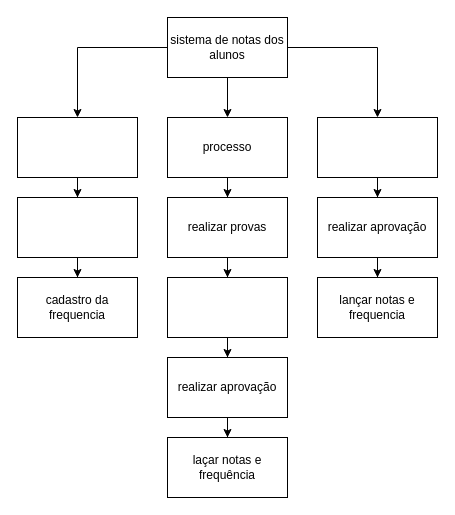
Image size: 455x515. Some labels were removed from this diagram. The box of each missing label's shape, as (x1, y1, x2, y2) in pixels:
aplicar provas: (166, 276, 288, 338)
cadastro: (16, 116, 138, 178)
cadastro de notas: (16, 196, 138, 258)
consulta e relatório: (316, 116, 438, 178)
